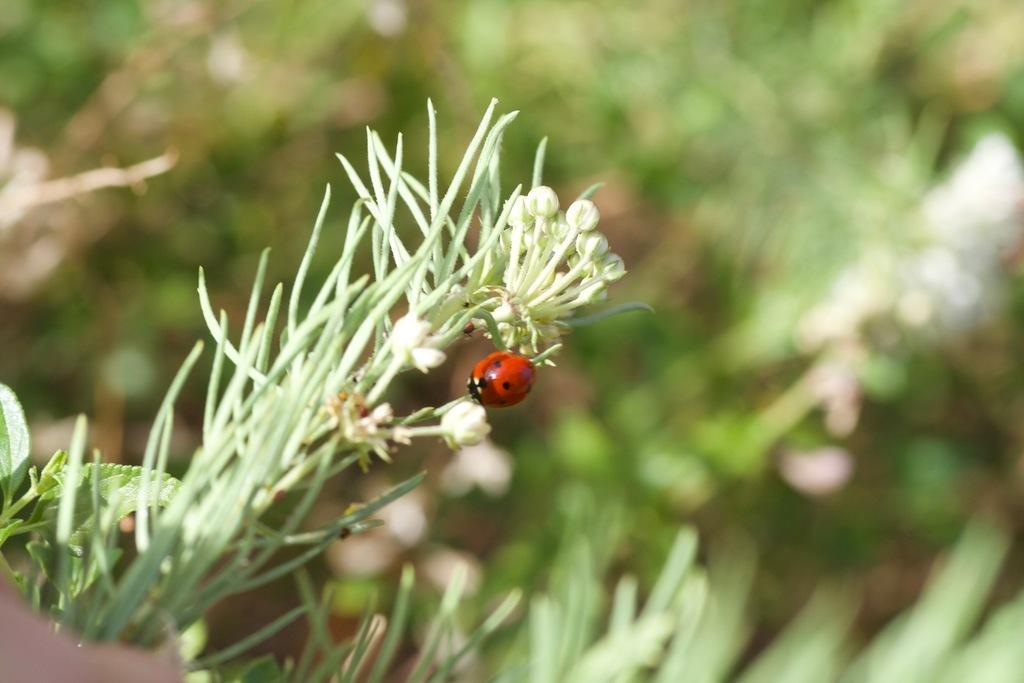ladybug: (465, 349, 541, 411)
